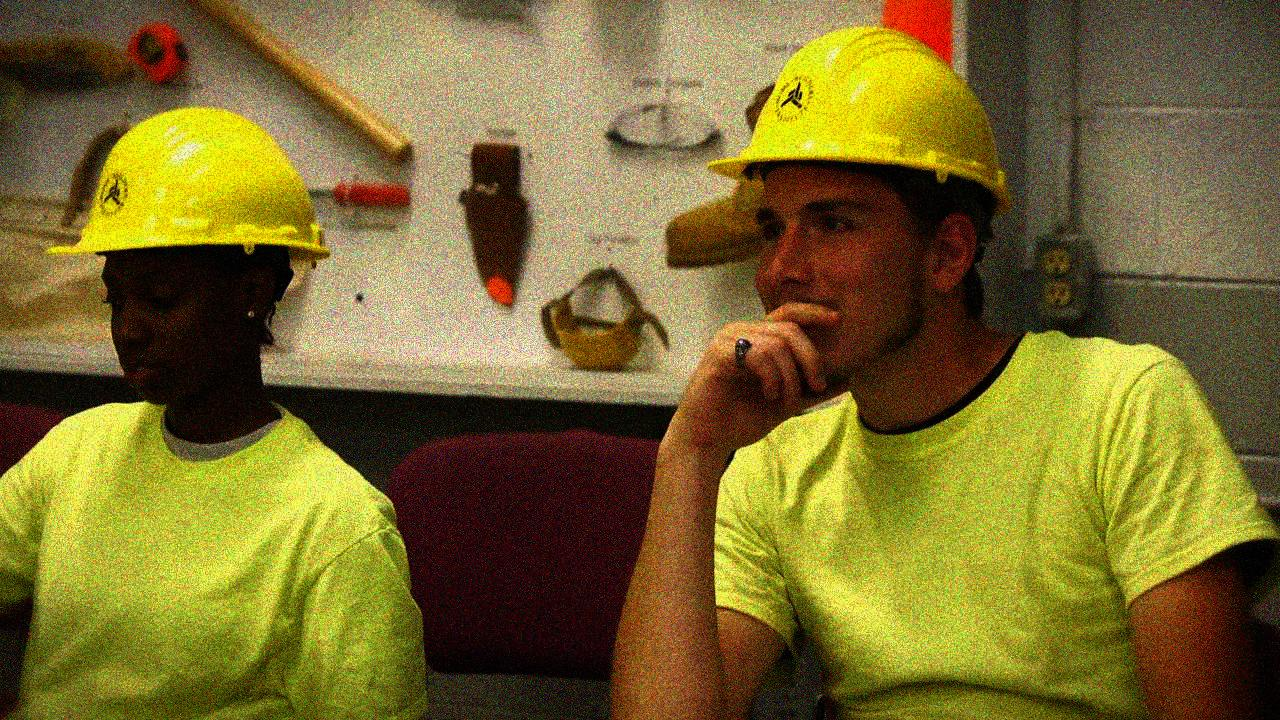helmet: (703, 24, 1014, 379), (42, 106, 327, 407)
